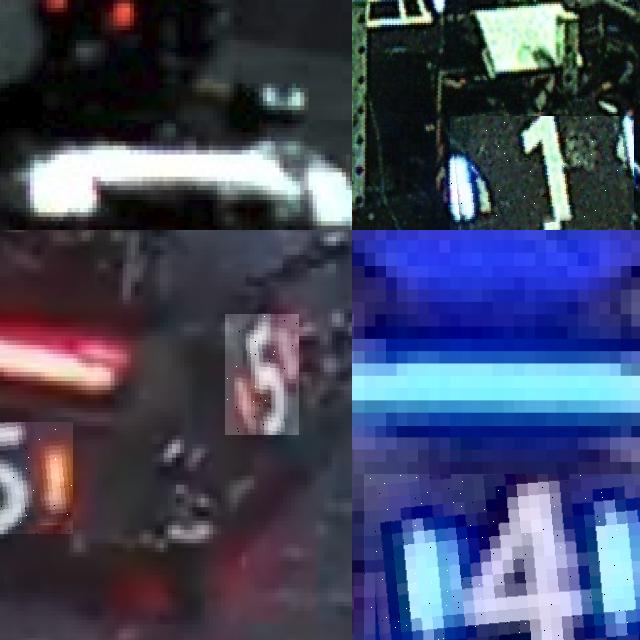B1: (449, 116, 634, 230)
B4: (364, 474, 640, 640)
R5: (225, 314, 299, 435), (0, 421, 73, 534)
